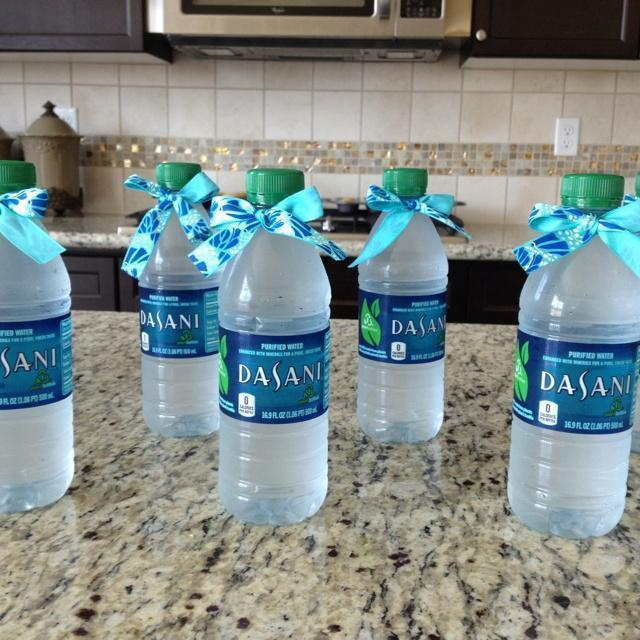plastik: (498, 167, 640, 544), (215, 164, 334, 533), (0, 150, 84, 532), (121, 151, 221, 444), (350, 160, 451, 448)
